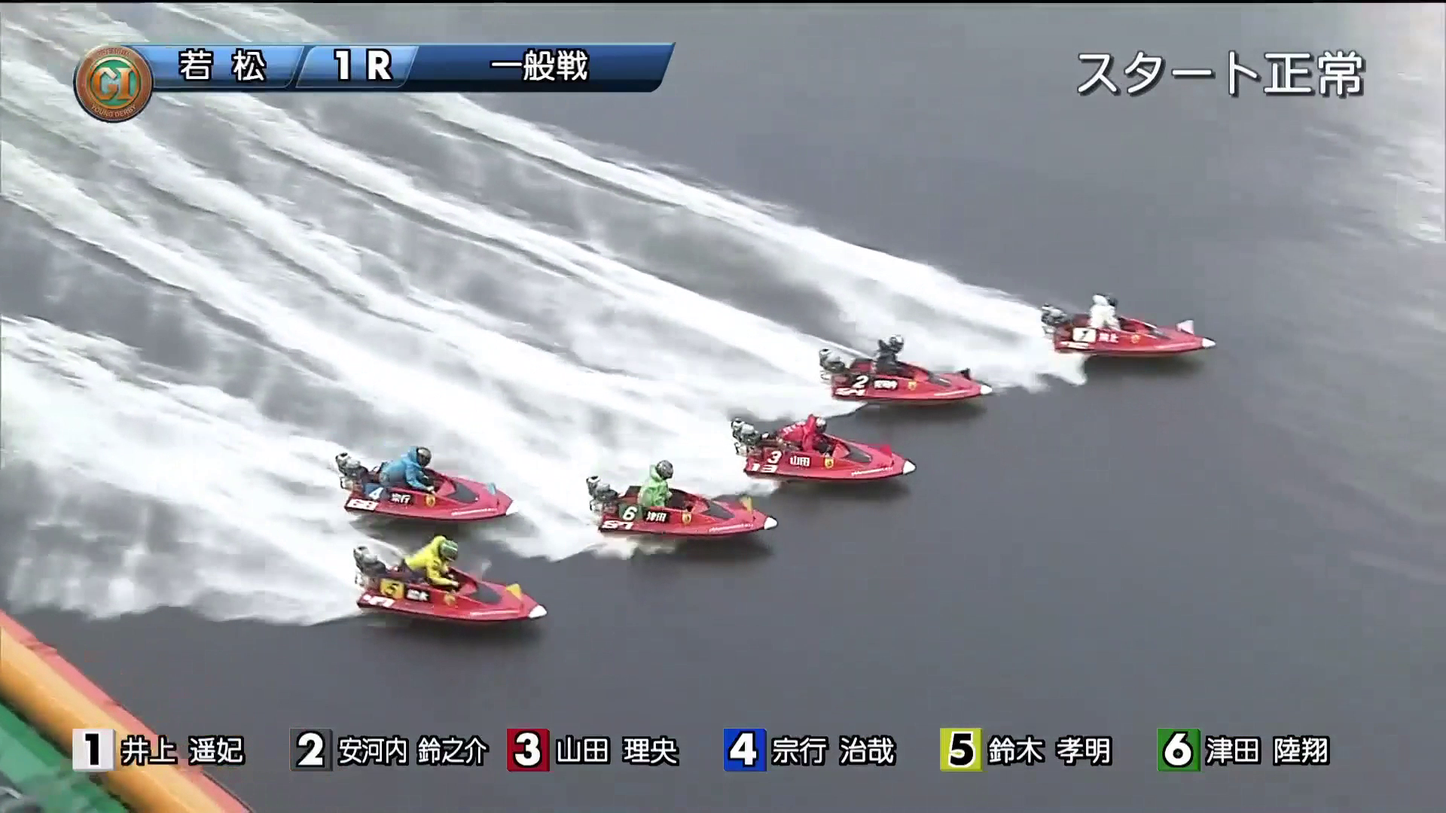１号艇: (1035, 308, 1173, 362)
２号艇: (816, 345, 945, 405)
３号艇: (774, 428, 915, 472)
４号艇: (614, 478, 735, 544)
５号艇: (357, 468, 481, 523)
６号艇: (447, 577, 547, 634)
